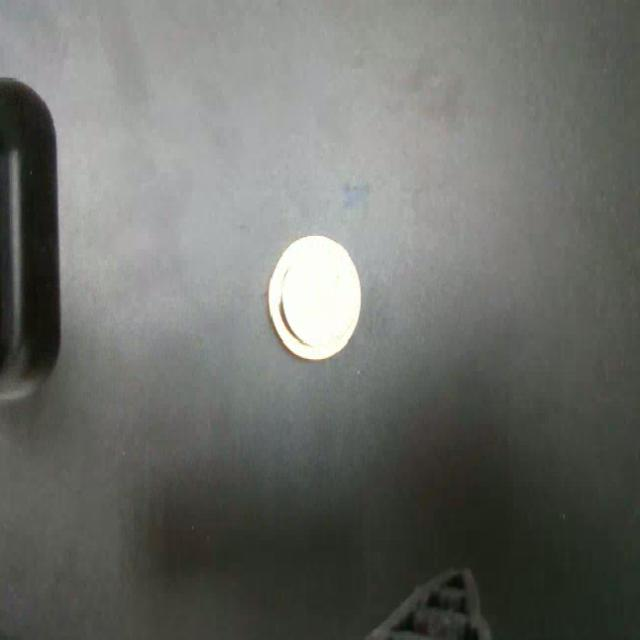sensor: (267, 233, 363, 361)
